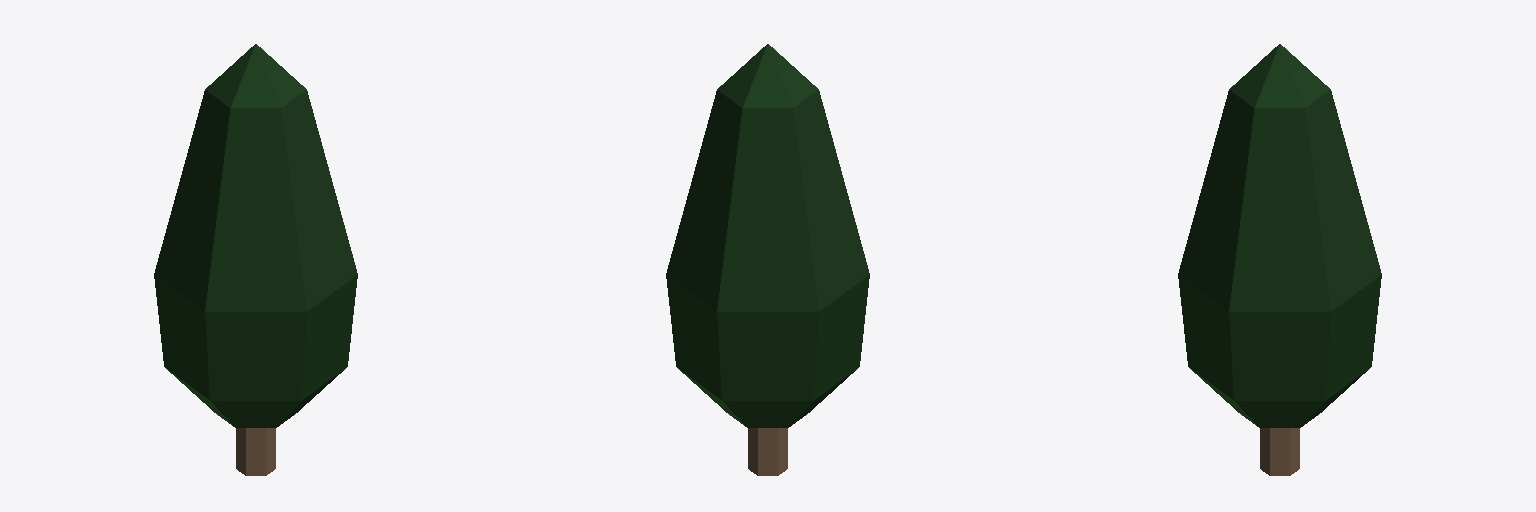
The model's file is Prop_Tree_Cedar_2.obj.
3 renders of one model, left to right at view 1: azimuth 30°, elevation 25°; view 2: azimuth 150°, elevation 25°; view 3: azimuth 270°, elevation 25°, orthographic.
Visible parts, largest first — view 1: object2, object1; view 2: object2, object1; view 3: object2, object1.
Part boxes in pixels (left/top/right/bottom): object2: left=154, top=44, right=357, bottom=427; object1: left=236, top=428, right=275, bottom=475; object2: left=666, top=44, right=869, bottom=427; object1: left=748, top=428, right=787, bottom=475; object2: left=1178, top=44, right=1381, bottom=427; object1: left=1260, top=428, right=1299, bottom=475.
Size of the model in its own units: 0.866 by 2.3 by 1.